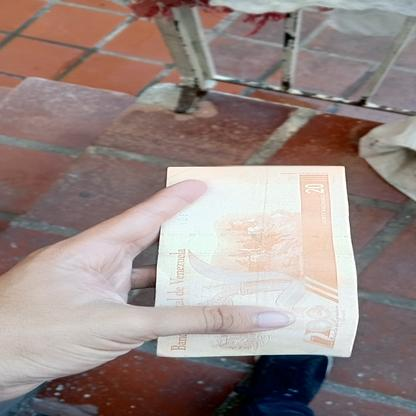twenty-back-vef: (154, 165, 358, 358)
